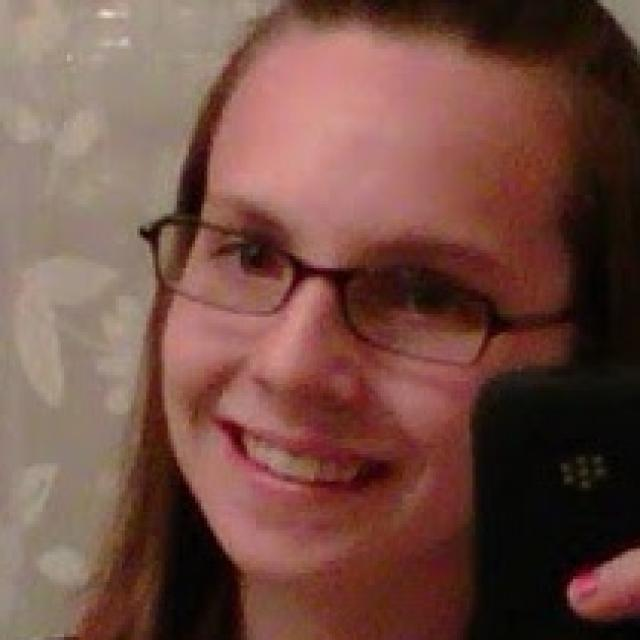Normal: (163, 19, 582, 584)
